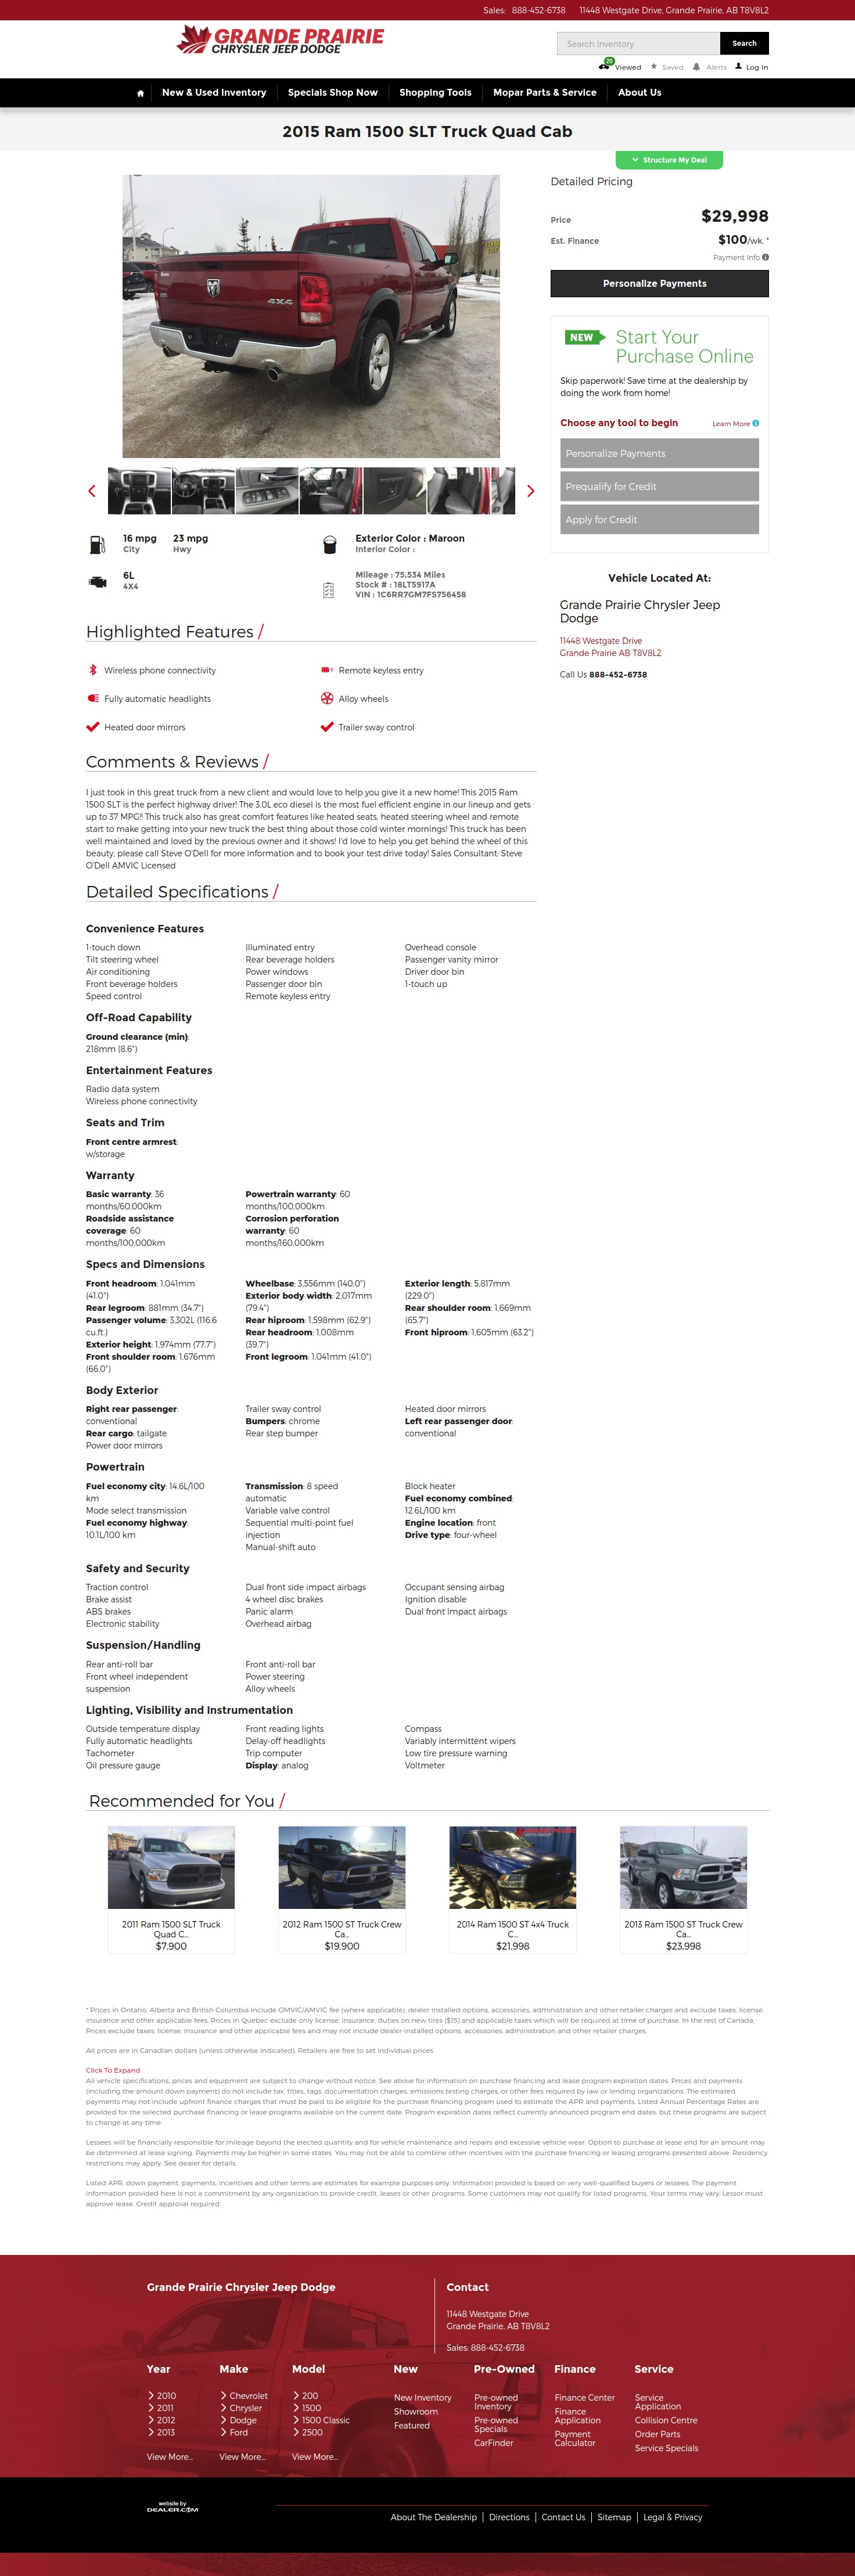car: (528, 485, 534, 498)
